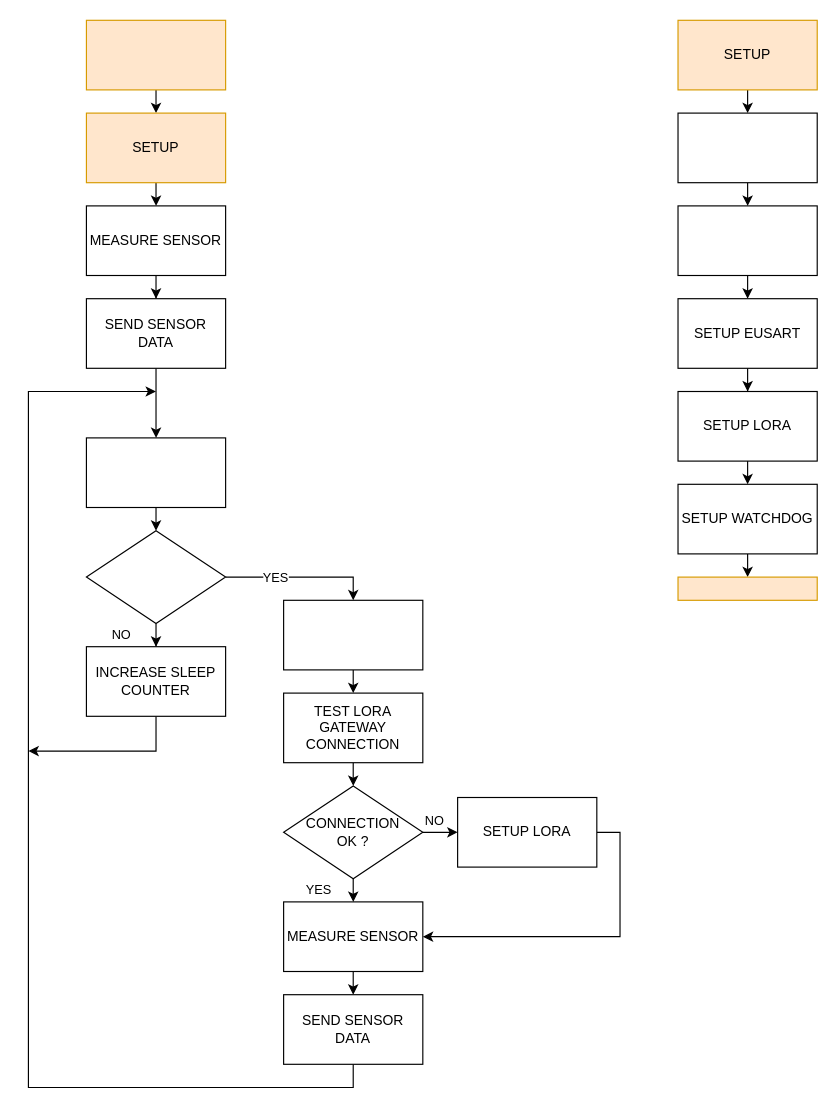
Image size: 838x1117. Some labels were removed from this diagram. The box of each missing label's shape, as (x1, y1, x2, y2) in pixels:
BOOTUP: (85, 19, 226, 90)
CONTINUE: (677, 576, 817, 600)
RESET SLEEP COUNTER: (282, 599, 423, 670)
SETUP I2C: (677, 205, 817, 276)
SETUP INTERRUPTS: (677, 112, 817, 183)
SLEEP 256s: (85, 437, 226, 507)
SLEEP COUNTER > THRESHOLD: (85, 530, 226, 624)
